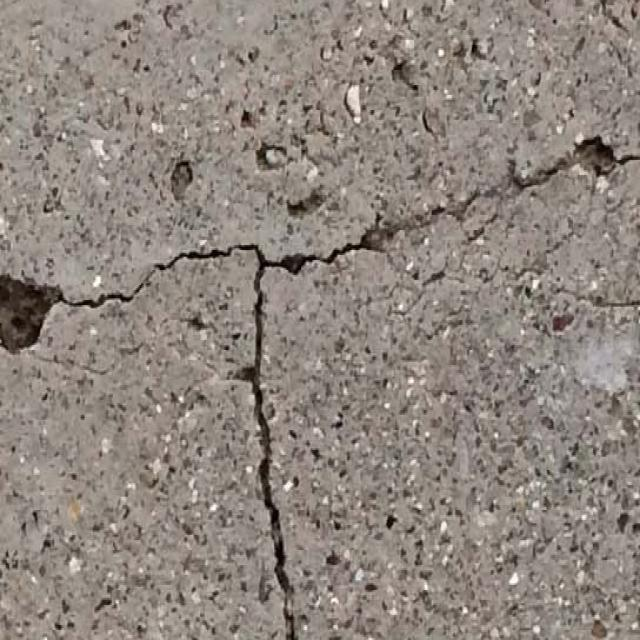Longitudinal: (237, 326, 312, 640)
Network: (224, 236, 318, 320)
Transverse: (330, 122, 562, 273), (81, 237, 216, 317)
Turtle-shell patterned: (0, 257, 69, 353), (568, 129, 639, 198)
